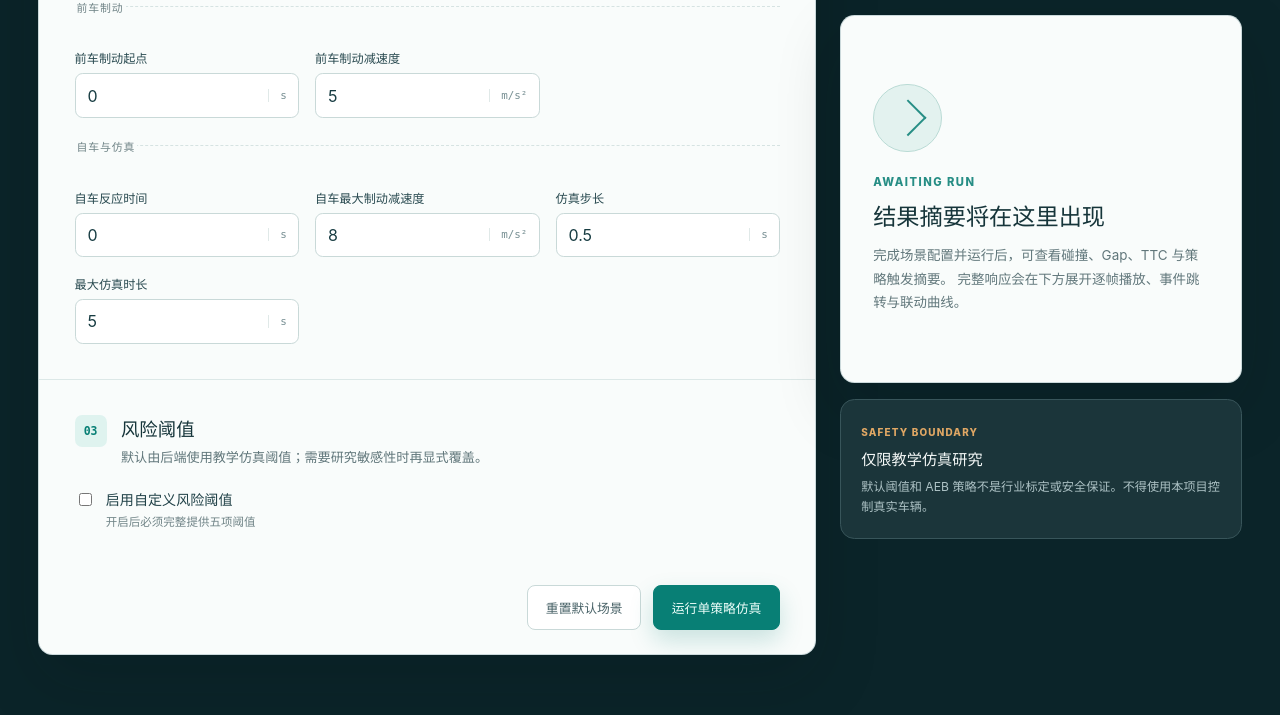
it: Dashboard configuration workflow › sends all custom thresholds when the advanced setting is enabled
This screenshot has width=1280, height=715.
(page scrolled)
Step 1. Click the checkbox labelled "启用自定义风险阈值 开启后必须完整提供五项阈值" → (85, 499), box [79, 493, 92, 506]
(page scrolled)
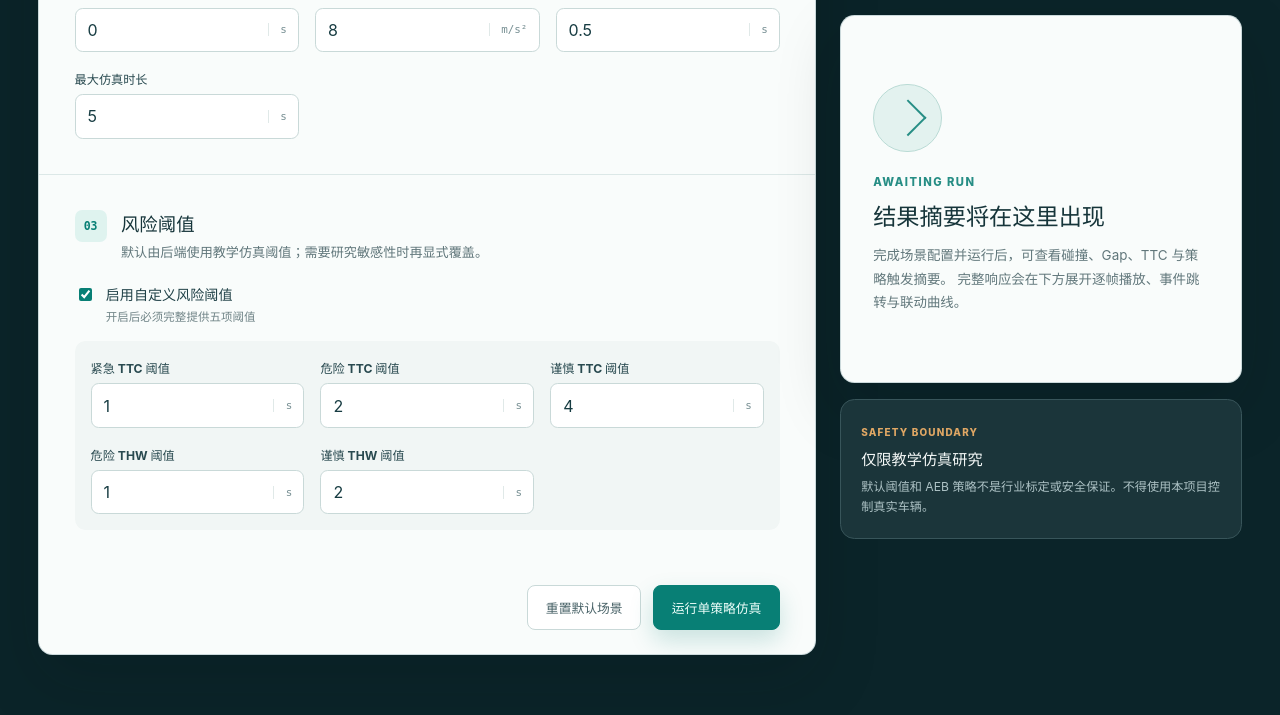
Step 2. Click the button "运行单策略仿真" → (717, 608), box [653, 585, 780, 630]
(page scrolled)
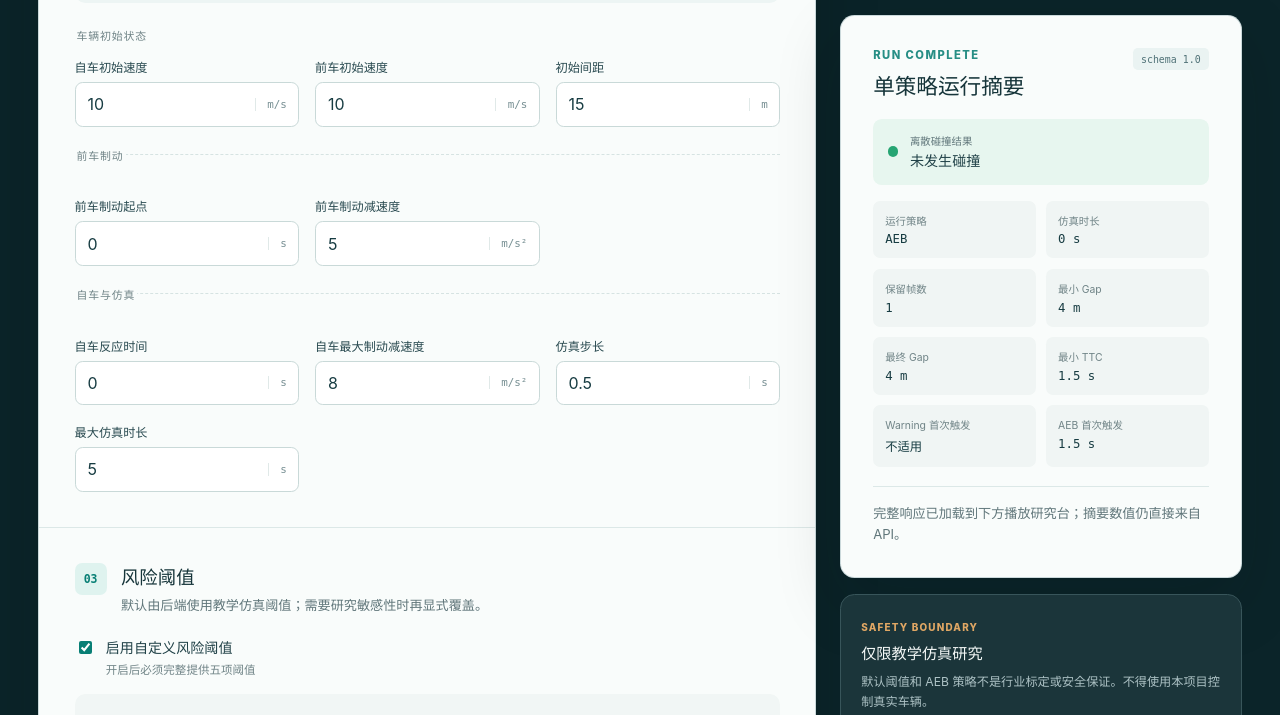
Result: the heading "单策略运行摘要" is shown at [873, 68, 1024, 99]
